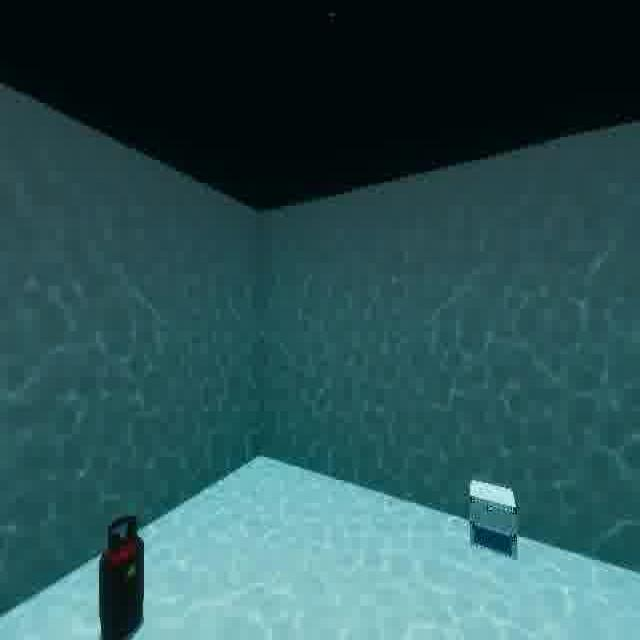Cylinder: (94, 506, 153, 640)
Docking Station: (464, 473, 526, 568)
